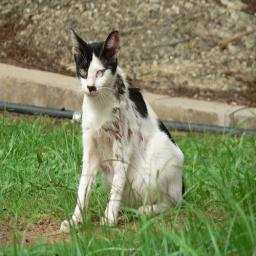catnose: (87, 84, 96, 93)
